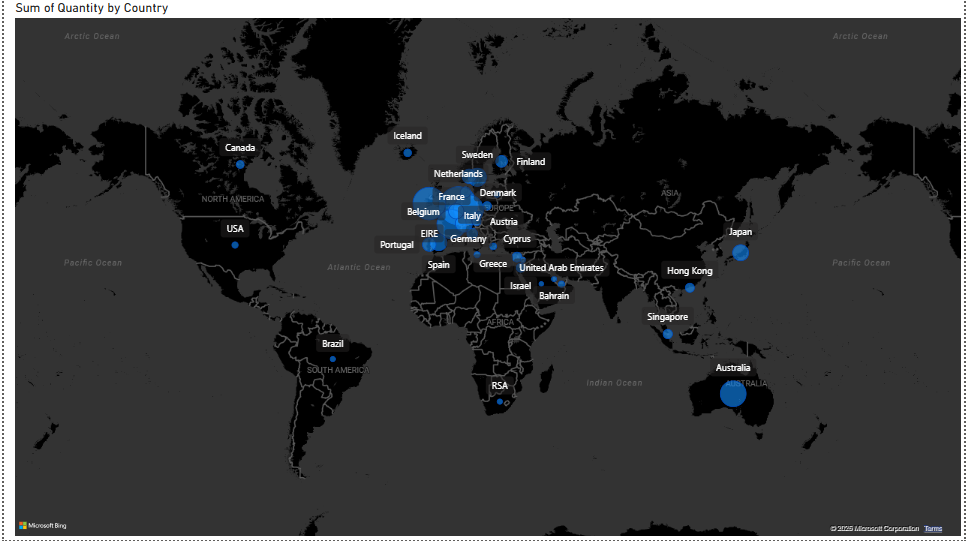

What the dashboard file says about the page in this screenshot:
{"tool":"powerbi","page":{"name":"Page 4","canvas":[1280,720],"ordinal":3},"visuals":[{"type":"map","fields":{"Category":["Online Retail.Country"],"Size":["Sum(Online Retail.Quantity)"]},"box":[9.6,0,1270.7,720.4],"z":0}]}

Visuals, with their boxes in screenshot pixels (x1, y1, x2, y2), scaled from the page's 1280x720 canvas onto the 966x542 screenshot:
map - Online Retail.Country x Sum(Online Retail.Quantity): (x1=7, y1=0, x2=965, y2=541)
